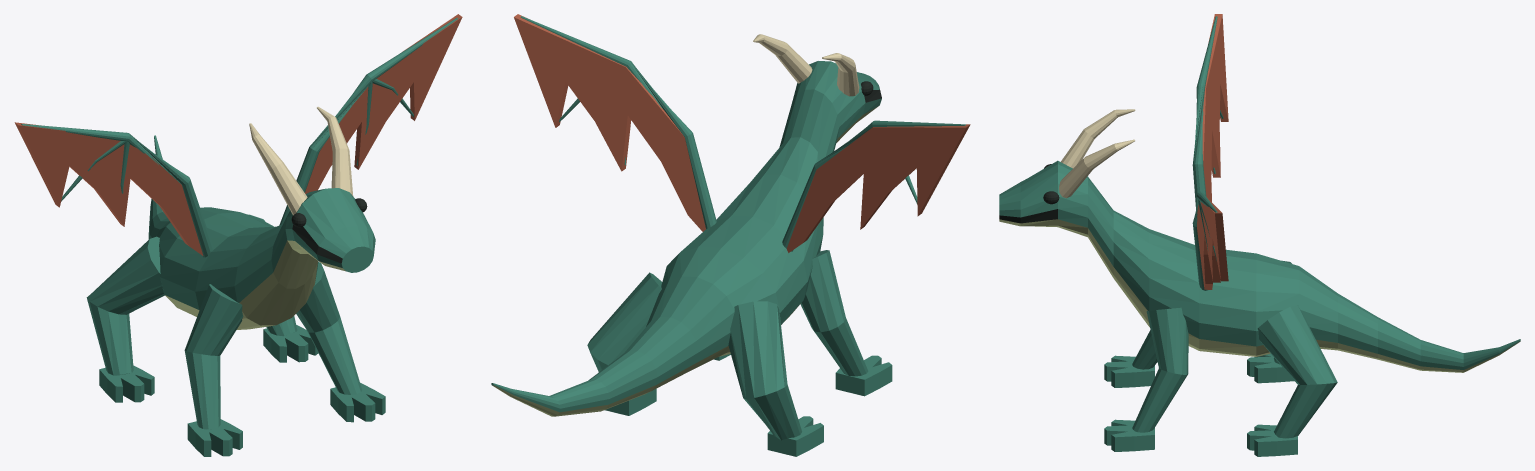
3 renders of one model, left to right at view 1: azimuth 30°, elevation 25°; view 2: azimuth 150°, elevation 25°; view 3: azimuth 270°, elevation 25°, orthographic. The views are drawn at different scales.
Visible parts, largest first — view 1: WholeRaisedNeckHeadTorsoAndSweptTail, WholeLeftArchedMembraneWing, WholeRightArchedMembraneWing, WholeLeftHindBentLimb, WholeLeftForeBentLimb, WholeRightForeBentLimb, WholeLeftLeadingArm, WholeRightLeadingArm, WholeLeftSweptHorn, WholeLeftForeThreeClawGroundFoot, WholeRightForeThreeClawGroundFoot, WholeLeftHindThreeClawGroundFoot (+2 smaller); view 2: WholeRaisedNeckHeadTorsoAndSweptTail, WholeRightArchedMembraneWing, WholeLeftArchedMembraneWing, WholeLeftHindBentLimb, WholeLeftForeBentLimb, WholeRightHindBentLimb, WholeRightLeadingArm, WholeLeftForeThreeClawGroundFoot, WholeLeftHindThreeClawGroundFoot, WholeLeftLeadingArm, WholeRightSweptHorn, WholeLeftSweptHorn (+1 smaller); view 3: WholeRaisedNeckHeadTorsoAndSweptTail, WholeRightHindBentLimb, WholeRightForeBentLimb, WholeLeftArchedMembraneWing, WholeRightArchedMembraneWing, WholeLeftLeadingArm, WholeRightForeThreeClawGroundFoot, WholeLeftForeThreeClawGroundFoot, WholeRightHindThreeClawGroundFoot, WholeRightSweptHorn, WholeLeftSweptHorn, WholeLeftHindThreeClawGroundFoot (+2 smaller).
Part boxes in pixels (x1,y1,x2,y2): WholeRaisedNeckHeadTorsoAndSweptTail: [148, 135, 375, 329]; WholeLeftArchedMembraneWing: [14, 122, 203, 255]; WholeRightArchedMembraneWing: [305, 14, 462, 193]; WholeLeftHindBentLimb: [86, 236, 164, 375]; WholeLeftForeBentLimb: [184, 284, 243, 429]; WholeRightForeBentLimb: [296, 262, 361, 394]; WholeLeftLeadingArm: [21, 124, 213, 257]; WholeRightLeadingArm: [279, 18, 457, 225]; WholeLeftSweptHorn: [249, 123, 307, 215]; WholeLeftForeThreeClawGroundFoot: [187, 419, 242, 456]; WholeRightForeThreeClawGroundFoot: [330, 382, 385, 422]; WholeLeftHindThreeClawGroundFoot: [99, 365, 154, 402]; WholeRaisedNeckHeadTorsoAndSweptTail: [491, 61, 881, 416]; WholeRightArchedMembraneWing: [514, 14, 705, 231]; WholeLeftArchedMembraneWing: [786, 124, 970, 252]; WholeLeftHindBentLimb: [728, 301, 801, 440]; WholeLeftForeBentLimb: [800, 250, 868, 376]; WholeRightHindBentLimb: [587, 272, 662, 371]; WholeRightLeadingArm: [520, 16, 716, 228]; WholeLeftForeThreeClawGroundFoot: [835, 355, 892, 396]; WholeLeftHindThreeClawGroundFoot: [767, 416, 823, 456]; WholeLeftLeadingArm: [782, 120, 965, 251]; WholeRightSweptHorn: [753, 34, 812, 83]; WholeLeftSweptHorn: [822, 53, 859, 96]; WholeRaisedNeckHeadTorsoAndSweptTail: [999, 160, 1520, 372]; WholeRightHindBentLimb: [1257, 305, 1337, 438]; WholeRightForeBentLimb: [1132, 307, 1188, 432]; WholeLeftArchedMembraneWing: [1202, 14, 1228, 201]; WholeRightArchedMembraneWing: [1197, 197, 1228, 289]; WholeLeftLeadingArm: [1192, 16, 1217, 209]; WholeRightForeThreeClawGroundFoot: [1104, 419, 1154, 451]; WholeLeftForeThreeClawGroundFoot: [1104, 355, 1154, 387]; WholeRightHindThreeClawGroundFoot: [1247, 424, 1297, 456]; WholeRightSweptHorn: [1059, 139, 1134, 198]; WholeLeftSweptHorn: [1061, 109, 1135, 168]; WholeLeftHindThreeClawGroundFoot: [1247, 353, 1294, 383].
Bounding box in the file's own units: 3.3 × 2.3 × 3.65.
